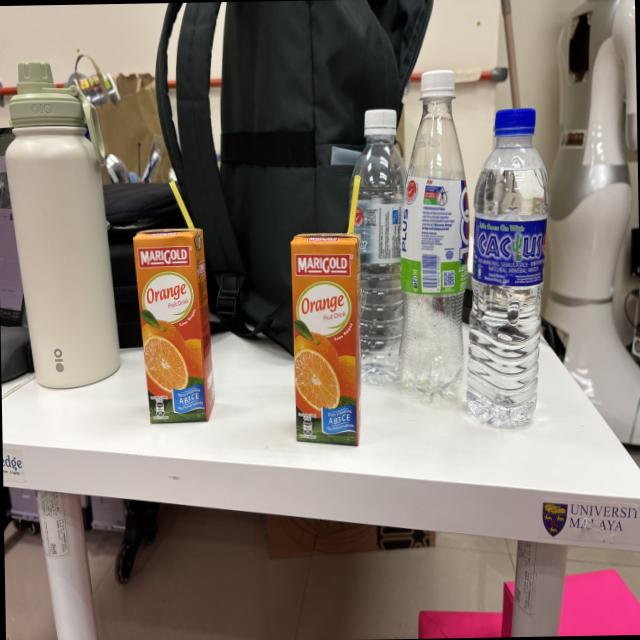drink_carton: (284, 168, 370, 453), (130, 172, 218, 430)
plastic_bottle: (462, 100, 552, 440), (389, 63, 474, 405), (346, 98, 416, 390)
